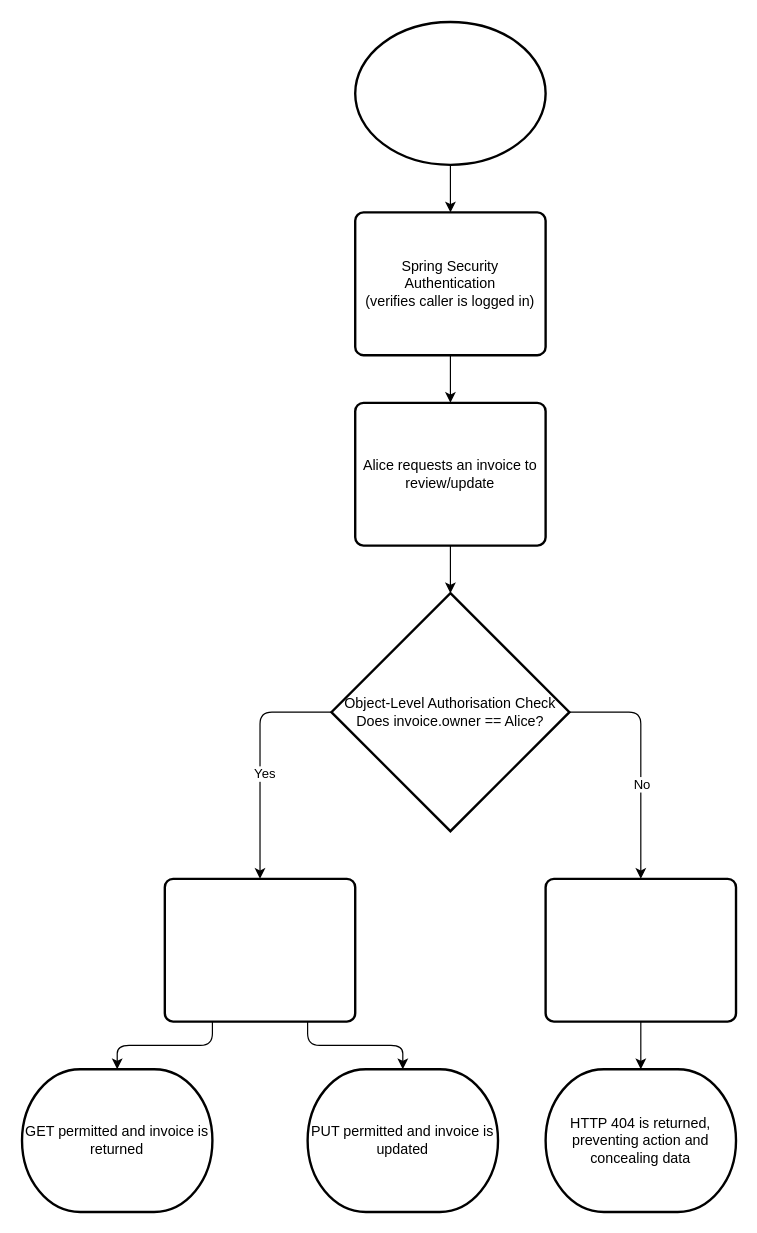
The diagram is 757 pixels wide and 1233 high, and some of its shapes have lost their labels. Here are the shapes that lost their labels. From the top down, the centre of each, then its label:
At point (449, 92): "Authenticated as Alice (low privilege user)".
At point (259, 949): "Invoice is retrieved based on owner and ID".
At point (640, 949): "Invoice does not belong to user".
